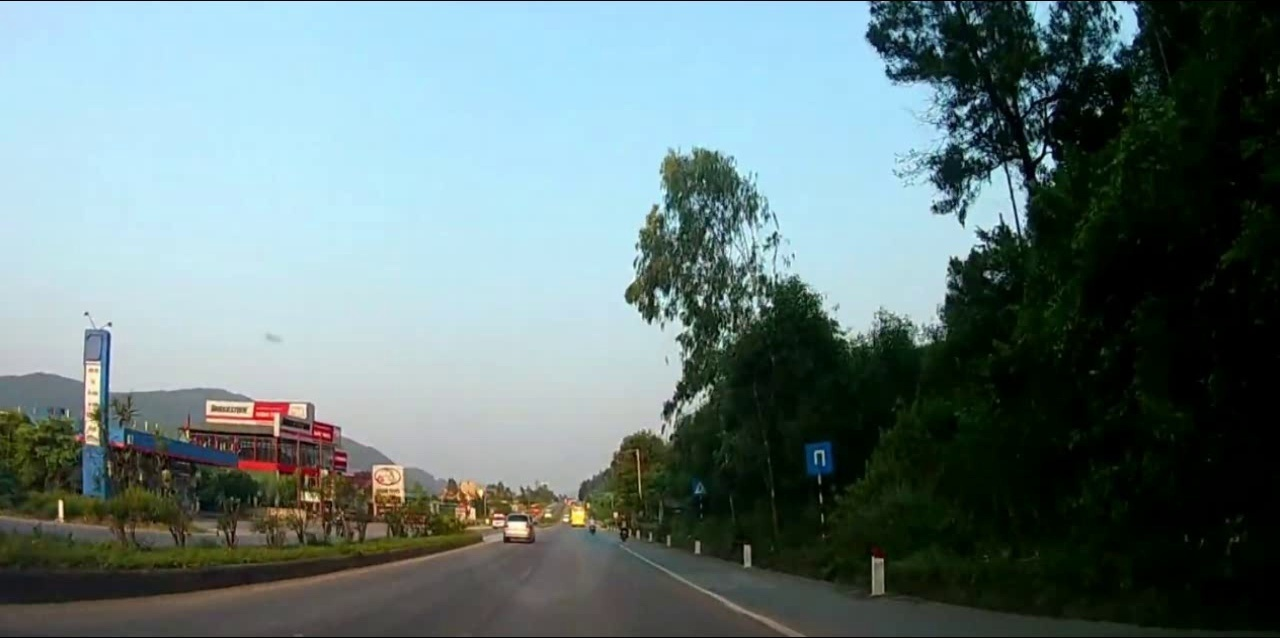Bien khac: (805, 438, 833, 476)
Nguoi di bo: (693, 477, 708, 494)
